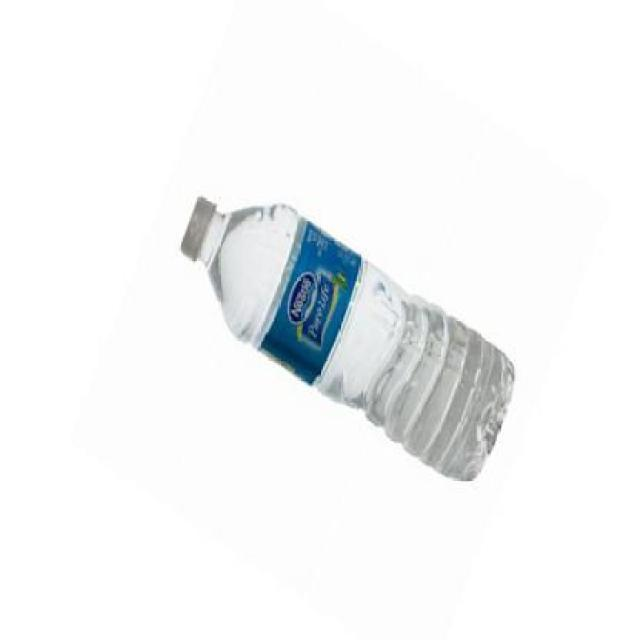Plastic: (178, 196, 515, 481)
